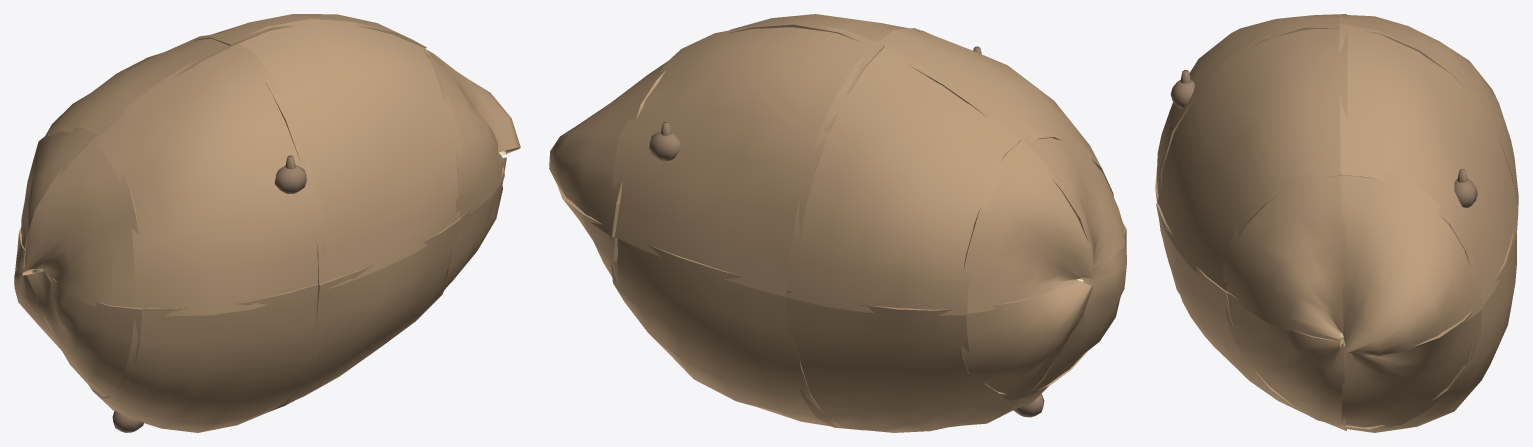
Rendered from potato-whole.glb.
3 renders of one model, left to right at view 1: azimuth 30°, elevation 25°; view 2: azimuth 150°, elevation 25°; view 3: azimuth 270°, elevation 25°, orthographic. The views are drawn at different scales.
Parts seen in each view (by area): view 1: Skin_09, Skin_05, Skin_10, Skin_13, Skin_06, Skin_14, Skin_08, Skin_01, Skin_12, Skin_02, Skin_00, Skin_04 (+2 smaller); view 2: Skin_04, Skin_08, Skin_11, Skin_07, Skin_12, Skin_15, Skin_09, Skin_00, Skin_13, Skin_14, Skin_05, Skin_03 (+1 smaller); view 3: Skin_05, Skin_04, Skin_00, Skin_01, Skin_03, Skin_02, Skin_07, Skin_06, Skin_08, Skin_09, Sprout_0, Sprout_1.
Boxes of the visible parts, x1,y1,x2,y2 form: Skin_09: [94, 43, 325, 316]; Skin_05: [231, 18, 461, 289]; Skin_10: [89, 284, 323, 432]; Skin_13: [24, 133, 143, 315]; Skin_06: [268, 218, 461, 412]; Skin_14: [27, 271, 142, 402]; Skin_08: [43, 34, 238, 140]; Skin_01: [422, 50, 503, 217]; Skin_12: [21, 127, 96, 268]; Skin_02: [441, 157, 506, 290]; Skin_00: [426, 49, 520, 152]; Skin_04: [195, 14, 426, 48]; Skin_04: [612, 25, 884, 299]; Skin_08: [786, 47, 1020, 315]; Skin_11: [786, 289, 1021, 432]; Skin_07: [610, 236, 862, 430]; Skin_12: [963, 139, 1094, 313]; Skin_15: [961, 282, 1092, 400]; Skin_09: [878, 28, 1113, 196]; Skin_00: [549, 61, 667, 236]; Skin_13: [1018, 134, 1124, 272]; Skin_14: [1025, 223, 1126, 397]; Skin_05: [729, 14, 928, 42]; Skin_03: [557, 184, 618, 285]; Skin_05: [1158, 26, 1347, 291]; Skin_04: [1339, 23, 1518, 304]; Skin_00: [1340, 173, 1483, 355]; Skin_01: [1223, 167, 1345, 341]; Skin_03: [1341, 309, 1481, 427]; Skin_02: [1223, 289, 1346, 426]; Skin_07: [1340, 230, 1516, 432]; Skin_06: [1156, 203, 1346, 430]; Skin_08: [1339, 15, 1518, 214]; Skin_09: [1157, 14, 1347, 192]; Sprout_0: [1454, 169, 1477, 207]; Sprout_1: [1170, 70, 1194, 108].
Size of the model in its own units: 0.7056 by 0.4922 by 0.4284.
